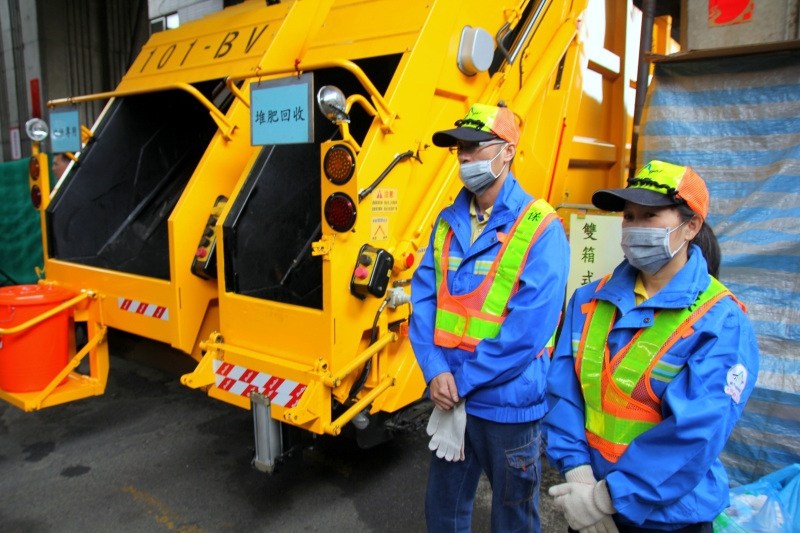mask: (619, 226, 676, 277), (457, 160, 501, 196)
